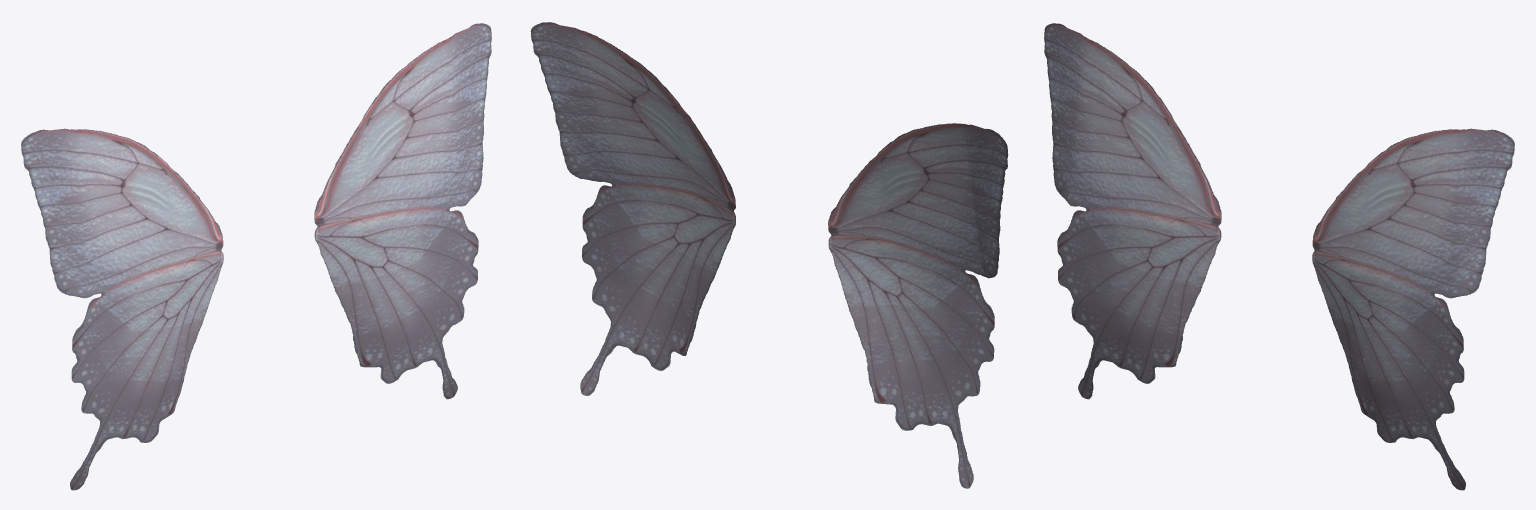
Rendered from butterfly.fbx.
3 renders of one model, left to right at view 1: azimuth 30°, elevation 25°; view 2: azimuth 150°, elevation 25°; view 3: azimuth 330°, elevation 25°, orthographic.
Parts seen in each view (by area): view 1: butterfly; view 2: butterfly; view 3: butterfly.
Part boxes in pixels (bbox=[...]): butterfly: bbox=[21, 23, 491, 490]; butterfly: bbox=[530, 22, 1008, 488]; butterfly: bbox=[1044, 23, 1514, 490].
Bounding box in the file's own units: 64.66 × 48.54 × 4.95.
